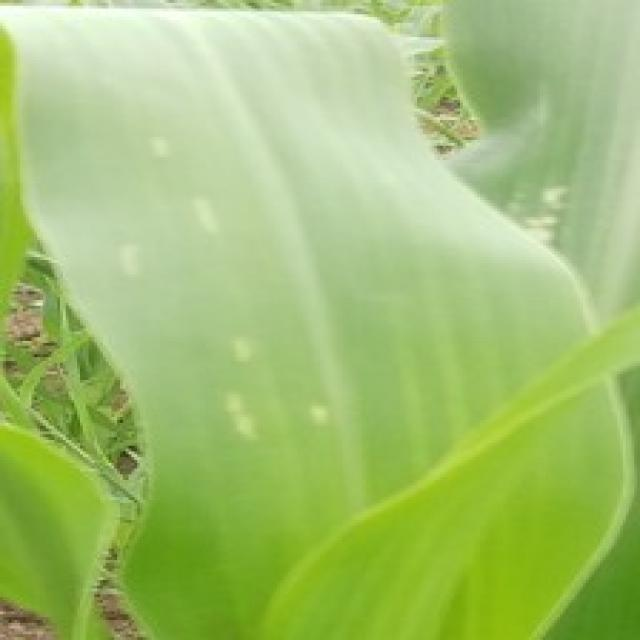Corn: (0, 0, 637, 637), (246, 286, 637, 637), (0, 0, 120, 637), (437, 0, 637, 323), (0, 409, 117, 637), (0, 0, 31, 403)
